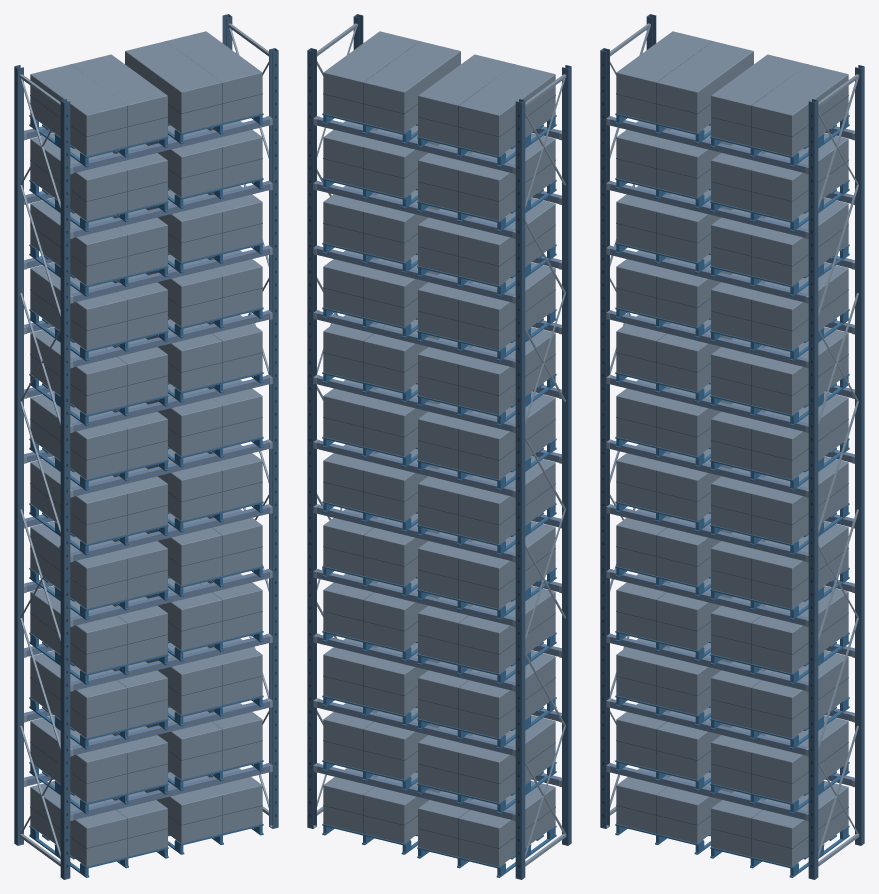
File: SM_GHS_CADRack_B_W26457.fbx
The picture shows the model from 3 angles, left to right: view 1: azimuth 30°, elevation 25°; view 2: azimuth 150°, elevation 25°; view 3: azimuth 330°, elevation 25°; orthographic projection.
Visible parts, largest first — view 1: SM_GHS_CADRack_B_W26457; view 2: SM_GHS_CADRack_B_W26457; view 3: SM_GHS_CADRack_B_W26457.
Boxes of the visible parts, x1,y1,x2,y2 form: SM_GHS_CADRack_B_W26457: [14, 14, 278, 879]; SM_GHS_CADRack_B_W26457: [307, 14, 571, 879]; SM_GHS_CADRack_B_W26457: [600, 14, 864, 879].
Size of the model in its own units: 265 by 122 by 915.
